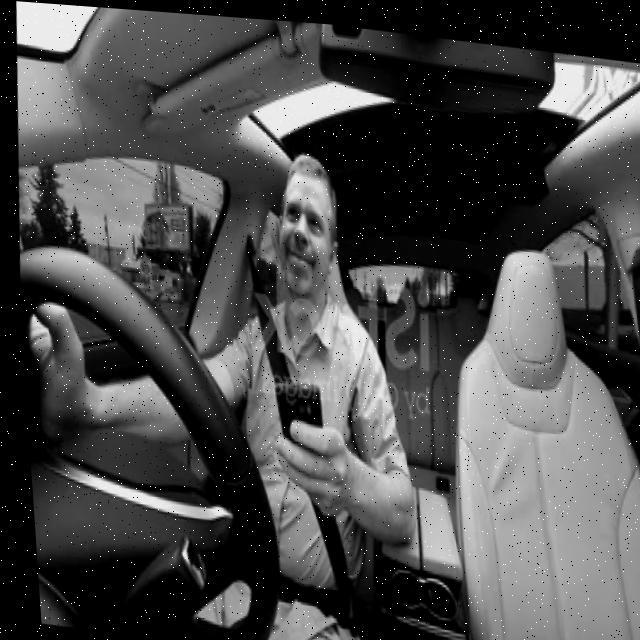PhoneCall: (265, 374, 323, 478)
